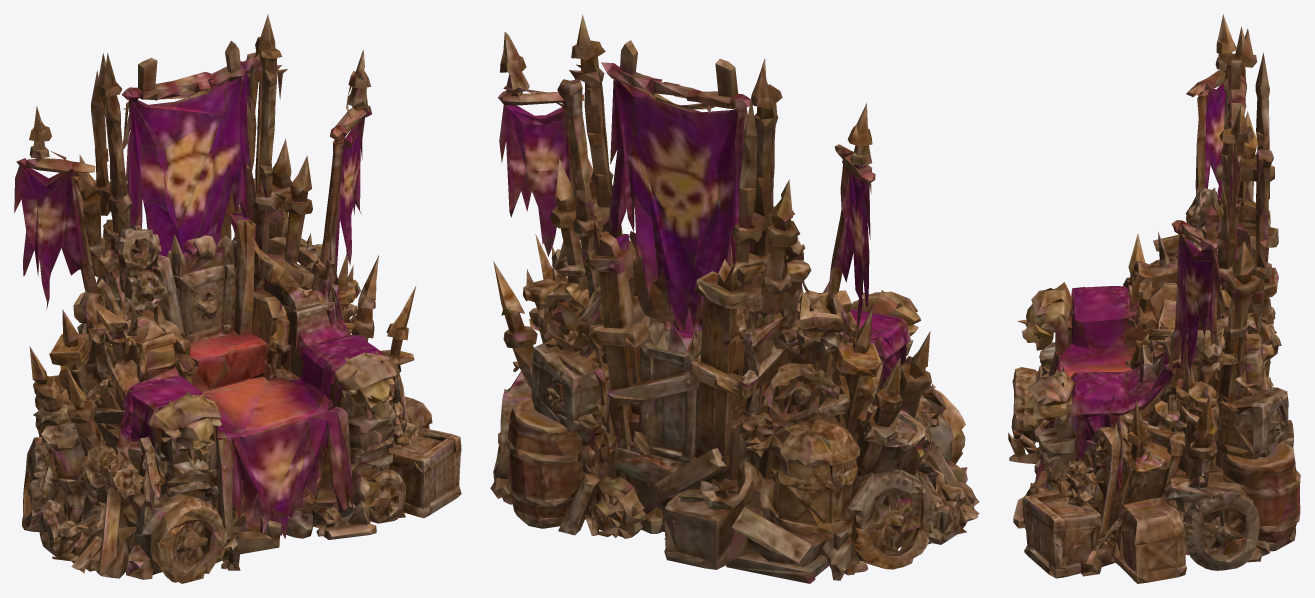
The model's file is grubnak-throne.glb.
The picture shows the model from 3 angles, left to right: view 1: azimuth 30°, elevation 25°; view 2: azimuth 150°, elevation 25°; view 3: azimuth 270°, elevation 25°; orthographic projection. The views are drawn at different scales.
Parts seen in each view (by area): view 1: Mesh_0; view 2: Mesh_0; view 3: Mesh_0.
Part boxes in pixels (box(x1,y1,x2,y2)): Mesh_0: box(14, 14, 461, 583); Mesh_0: box(490, 14, 979, 583); Mesh_0: box(1008, 14, 1300, 583).
Bounding box in the file's own units: 1.77 × 1.9 × 1.17.
Materials: 1 (1 with a texture image).
